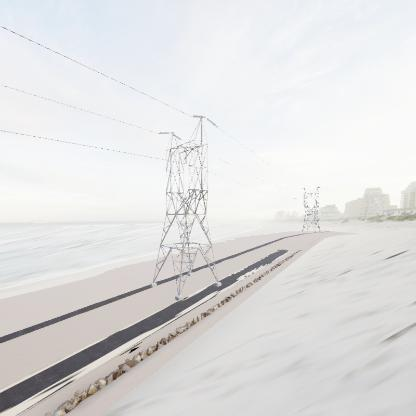tower: (150, 106, 225, 305), (299, 182, 322, 234)
